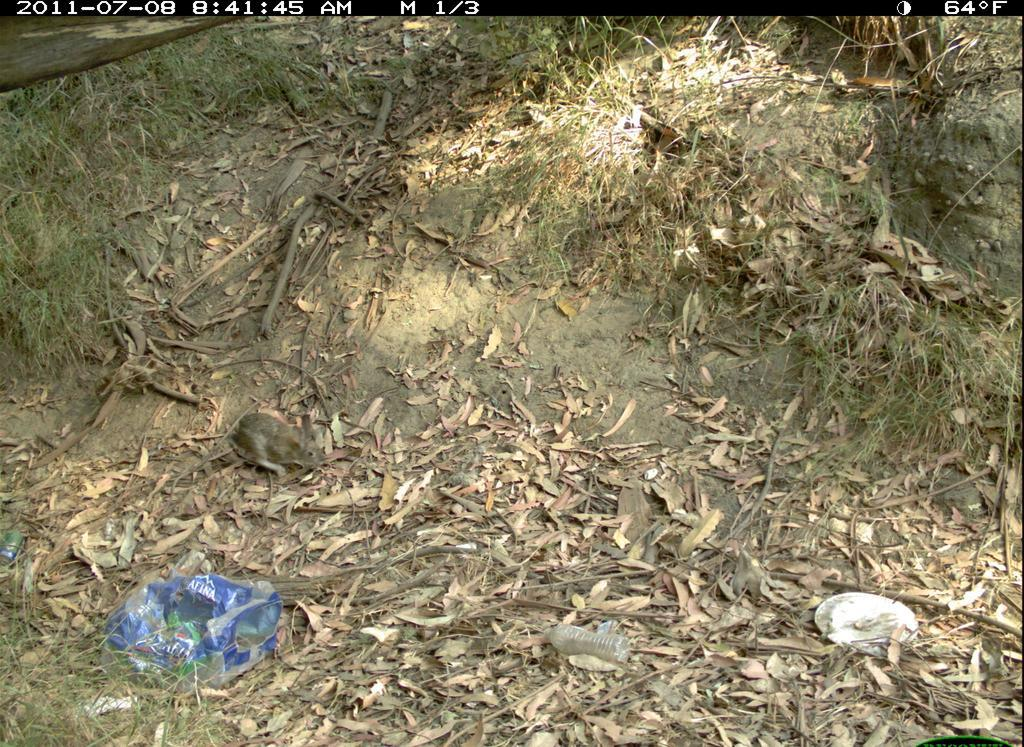rabbit: (231, 404, 331, 488)
